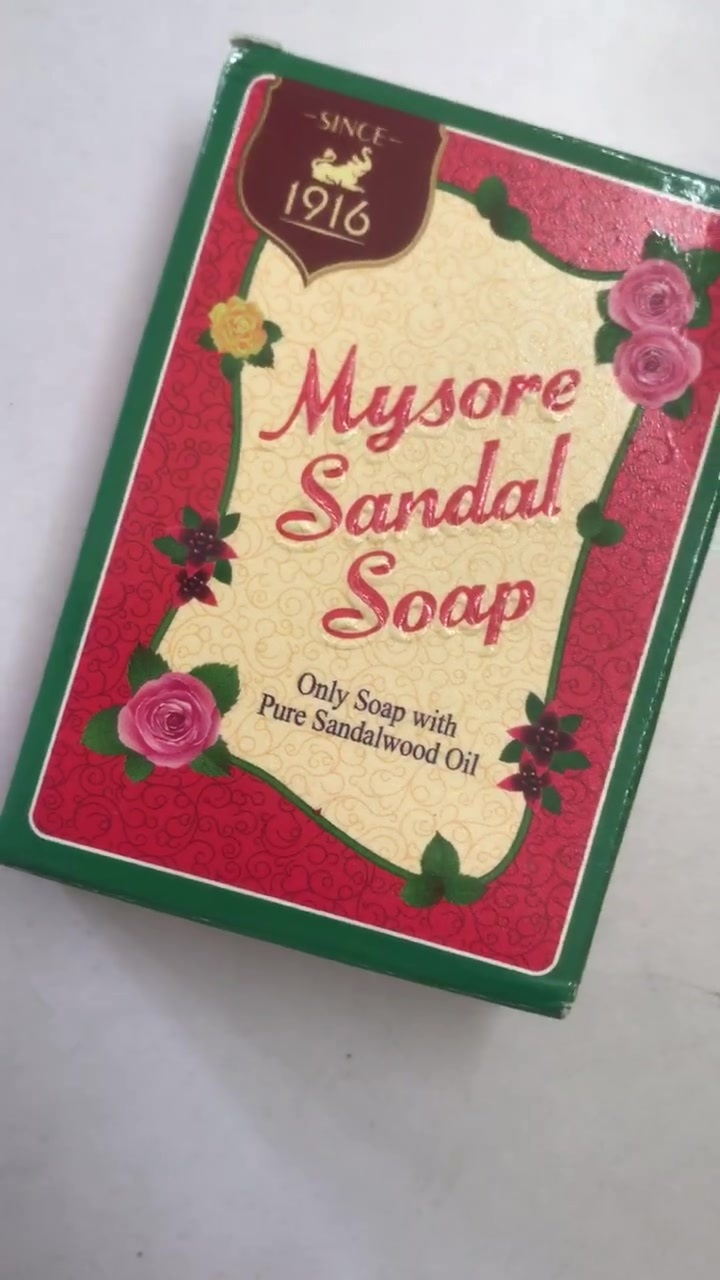mysore sandal soap: (1, 44, 714, 1018)
